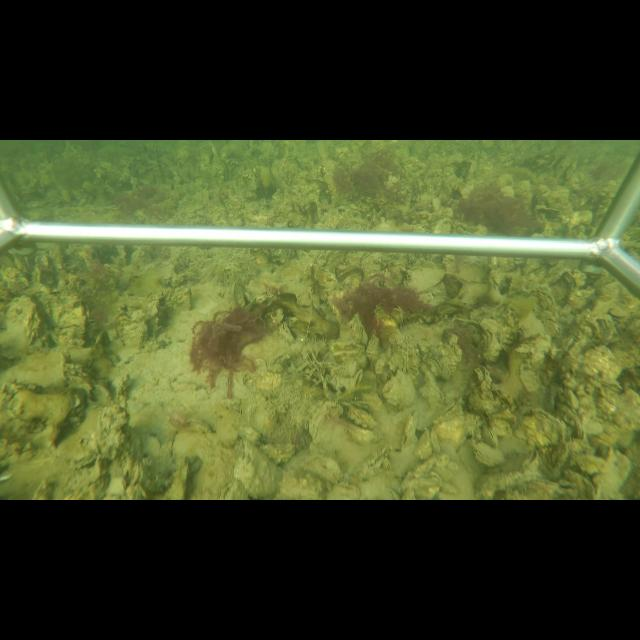Oyster-Closed: (231, 439, 283, 498), (48, 288, 90, 346), (277, 465, 333, 499), (521, 408, 568, 448), (5, 293, 42, 342), (404, 260, 447, 294), (382, 371, 419, 410), (117, 315, 148, 352), (399, 409, 420, 452), (341, 420, 377, 445), (470, 441, 509, 464), (432, 396, 465, 422), (349, 311, 368, 349), (229, 277, 247, 307), (279, 322, 295, 345)
